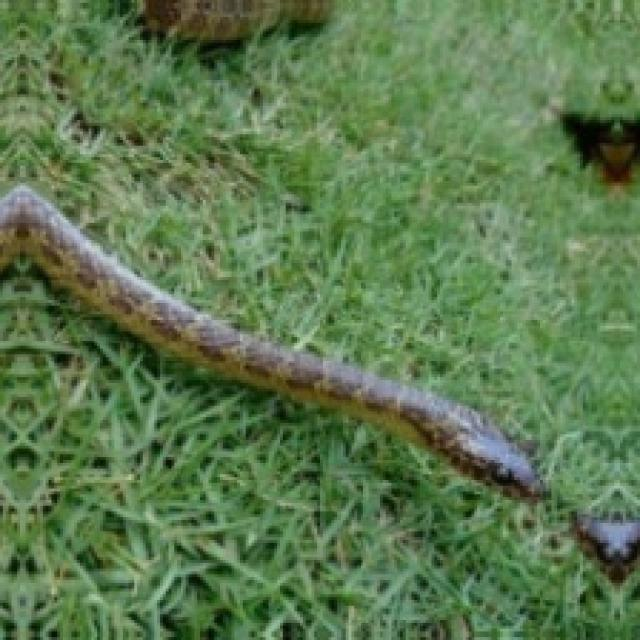mullers wolf snake: (0, 186, 546, 500), (0, 186, 543, 497)
